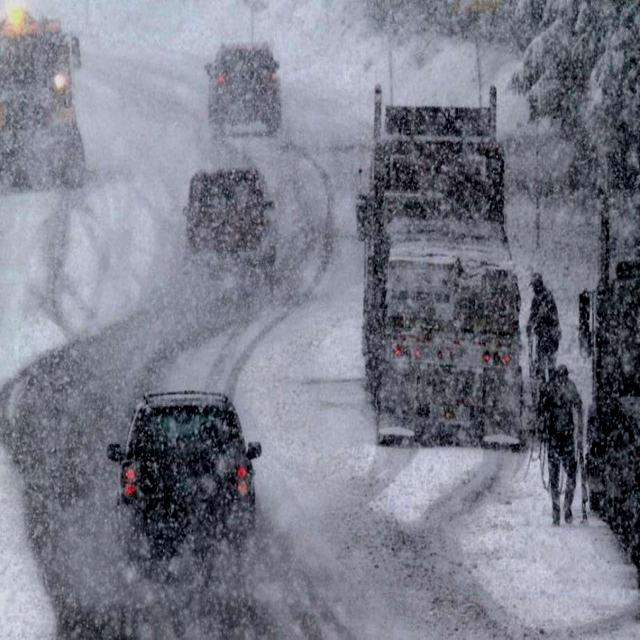Car: (108, 386, 261, 576), (205, 34, 280, 134)
Truck: (357, 80, 525, 440), (576, 179, 640, 562), (0, 7, 87, 184)
